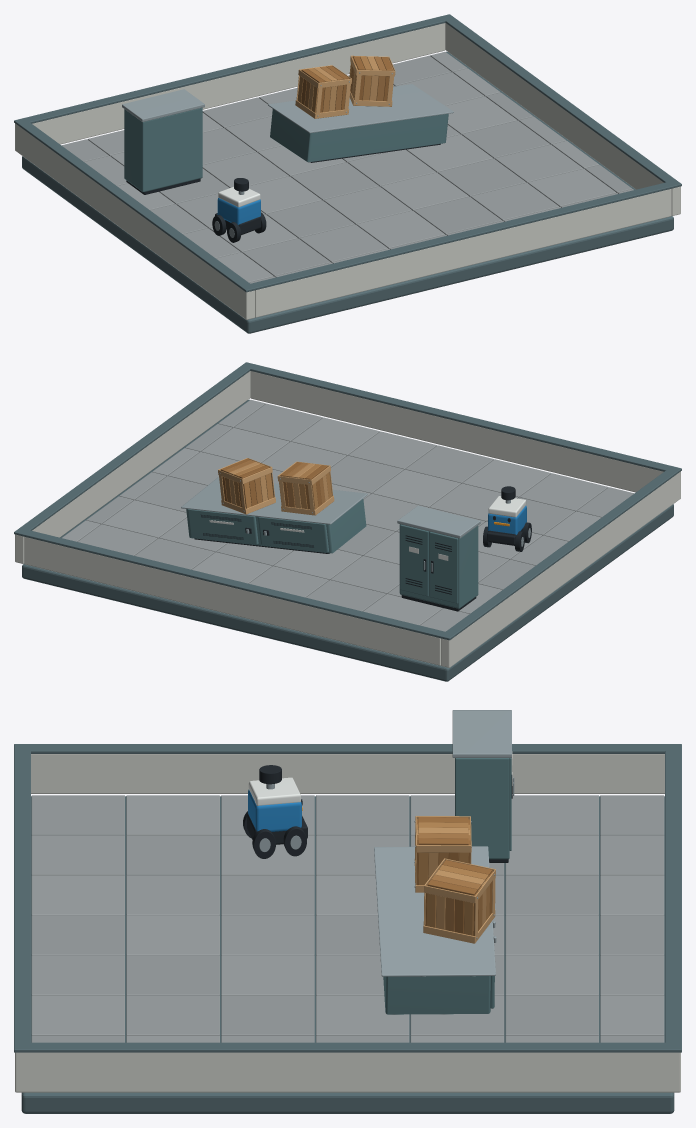
3 views of the same model, one above another, from view 1: azimuth 30°, elevation 25°; view 2: azimuth 150°, elevation 25°; view 3: azimuth 270°, elevation 25° (orthographic). The views are drawn at different scales.
Parts seen in each view (by area): view 1: Cutaway wall.002, Floor foundation, mount, Cutaway wall.003, storage, Cutaway wall, Cutaway wall.001, Wall coping.002, Wall coping.003, Wall coping, Wall coping.001, box_0 (+41 smaller); view 2: Cutaway wall.003, Cutaway wall.002, Floor foundation, mount, storage, Cutaway wall, Cutaway wall.001, Wall coping.003, Wall coping.002, Wall coping, Wall coping.001, box_1 (+43 smaller); view 3: Cutaway wall.001, Cutaway wall, Floor foundation, mount, storage, Wall coping.001, Wall coping, box_1, Wall coping.002, Wall coping.003, rover, Tile_0_1 (+44 smaller).
Part boxes in pixels (x1,y1,x2,y2): Cutaway wall.002: (255, 189, 671, 317); Floor foundation: (22, 51, 673, 333); mount: (268, 84, 453, 162); Cutaway wall.003: (32, 23, 445, 144); storage: (122, 89, 204, 194); Cutaway wall: (15, 123, 254, 319); Cutaway wall.001: (445, 23, 680, 215); Wall coping.002: (250, 182, 672, 289); Wall coping.003: (24, 16, 445, 123); Wall coping: (14, 118, 255, 292); Wall coping.001: (440, 14, 681, 188); box_0: (295, 65, 351, 118); Cutaway wall.003: (24, 537, 440, 665); Cutaway wall.002: (250, 371, 663, 492); Floor foundation: (22, 399, 673, 681); mount: (181, 477, 367, 553); storage: (397, 505, 480, 611); Cutaway wall: (441, 471, 680, 667); Cutaway wall.001: (15, 371, 250, 563); Wall coping.003: (23, 530, 445, 637); Wall coping.002: (250, 364, 671, 471); Wall coping: (440, 466, 681, 640); Wall coping.001: (14, 362, 255, 536); box_1: (218, 458, 275, 514); Cutaway wall.001: (15, 1052, 680, 1092); Cutaway wall: (31, 754, 664, 793); Floor foundation: (21, 796, 674, 1113); mount: (374, 846, 496, 1014); storage: (452, 710, 514, 862); Wall coping.001: (14, 1042, 681, 1052); Wall coping: (14, 744, 681, 753); box_1: (423, 858, 495, 943); Wall coping.002: (14, 750, 30, 1042); Wall coping.003: (665, 750, 681, 1042); rover: (243, 765, 307, 858); Tile_0_1: (126, 795, 219, 835).
Bounding box in the file's own units: 7.64 × 1.69 × 7.05.
